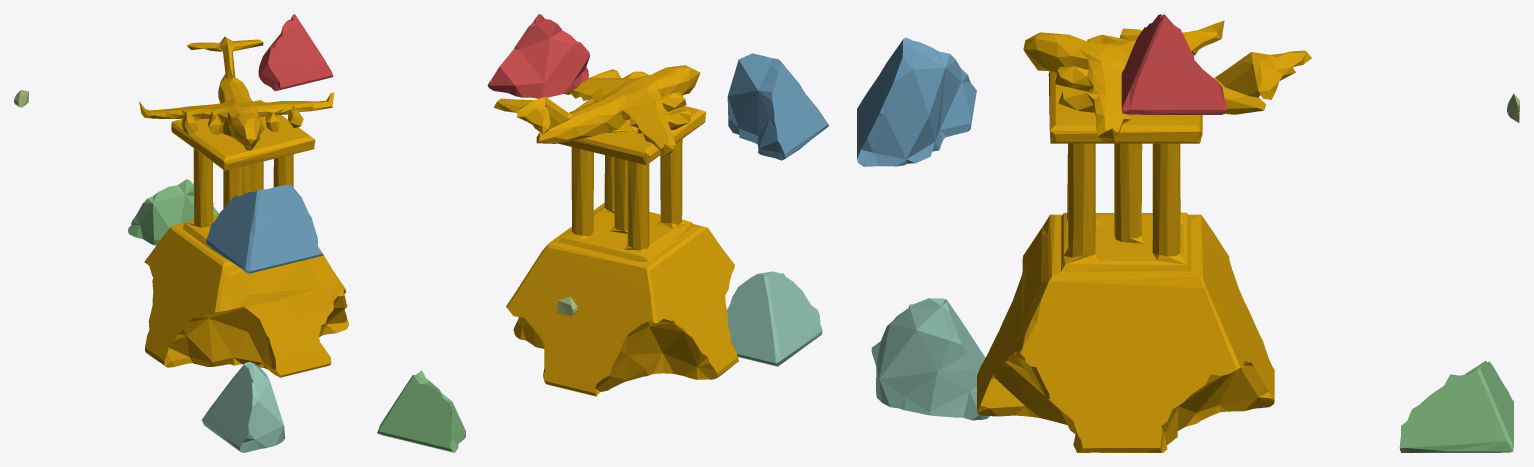
The model's file is fractured_30_6pcs_transformed.glb.
The picture shows the model from 3 angles, left to right: view 1: azimuth 30°, elevation 25°; view 2: azimuth 150°, elevation 25°; view 3: azimuth 270°, elevation 25°; orthographic projection. The views are drawn at different scales.
Parts seen in each view (by area): view 1: piece_0.obj, piece_2.obj, piece_4.obj, piece_1.obj, piece_3.obj; view 2: piece_0.obj, piece_2.obj, piece_4.obj, piece_1.obj, piece_3.obj; view 3: piece_0.obj, piece_2.obj, piece_4.obj, piece_3.obj, piece_1.obj.
Part boxes in pixels (bbox=[...]): piece_0.obj: bbox=[139, 36, 348, 377]; piece_2.obj: bbox=[206, 184, 323, 273]; piece_4.obj: bbox=[202, 362, 285, 452]; piece_1.obj: bbox=[258, 14, 333, 91]; piece_3.obj: bbox=[128, 179, 219, 245]; piece_0.obj: bbox=[494, 65, 738, 396]; piece_2.obj: bbox=[727, 53, 828, 160]; piece_4.obj: bbox=[727, 271, 822, 366]; piece_1.obj: bbox=[487, 14, 589, 98]; piece_3.obj: bbox=[377, 370, 465, 452]; piece_0.obj: bbox=[977, 20, 1311, 452]; piece_2.obj: bbox=[857, 37, 976, 166]; piece_4.obj: bbox=[871, 298, 989, 420]; piece_3.obj: bbox=[1399, 360, 1513, 452]; piece_1.obj: bbox=[1121, 14, 1227, 114].
Size of the model in its own units: 0.7429 by 1.29 by 1.66.
